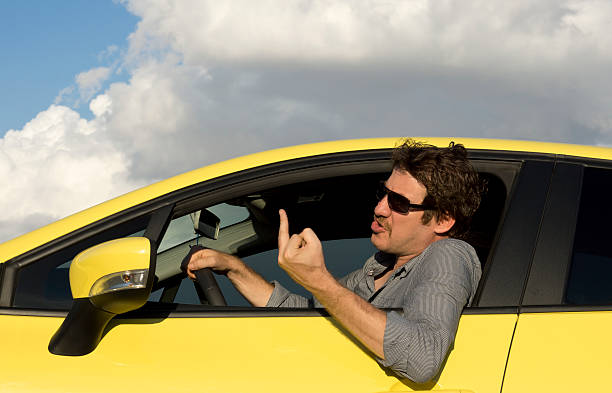insulting_gesture: (276, 207, 329, 292)
